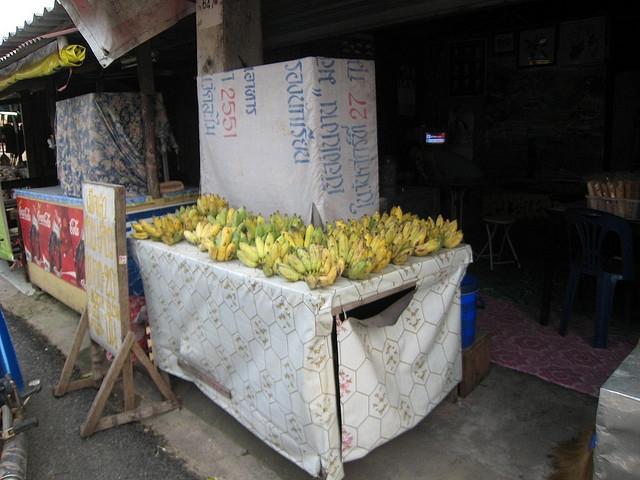banana: (412, 234, 442, 257), (316, 261, 341, 287), (238, 240, 262, 264), (316, 247, 332, 277), (288, 252, 308, 276), (348, 258, 368, 280), (388, 231, 404, 258), (296, 248, 312, 274), (139, 220, 162, 238), (410, 224, 428, 246), (308, 242, 320, 275), (276, 262, 304, 276), (357, 257, 373, 280), (338, 231, 348, 266), (243, 218, 256, 242), (263, 232, 274, 260), (441, 220, 457, 239), (303, 223, 314, 249), (280, 231, 296, 247), (256, 234, 264, 265), (162, 215, 175, 234), (224, 241, 236, 261), (237, 218, 253, 232), (385, 226, 396, 246), (200, 222, 212, 240), (313, 225, 324, 244), (208, 240, 218, 260), (383, 249, 392, 269), (220, 206, 228, 228), (429, 226, 440, 241), (226, 206, 235, 224), (202, 236, 212, 252), (274, 233, 286, 246), (232, 210, 240, 228), (281, 240, 289, 258), (386, 218, 399, 229), (188, 206, 198, 220), (230, 229, 240, 243), (265, 252, 273, 268), (173, 216, 181, 232), (162, 227, 174, 237), (428, 216, 436, 230), (264, 221, 272, 234), (400, 240, 410, 250), (201, 193, 208, 207), (367, 246, 375, 258), (370, 220, 378, 232), (412, 217, 419, 230), (349, 224, 358, 234), (316, 242, 322, 256), (364, 231, 372, 240), (390, 206, 397, 216), (438, 228, 448, 235), (210, 194, 216, 205), (271, 220, 276, 232), (202, 221, 209, 229), (327, 226, 332, 236), (348, 241, 353, 251), (410, 214, 418, 220), (183, 218, 188, 227), (207, 198, 210, 212)
